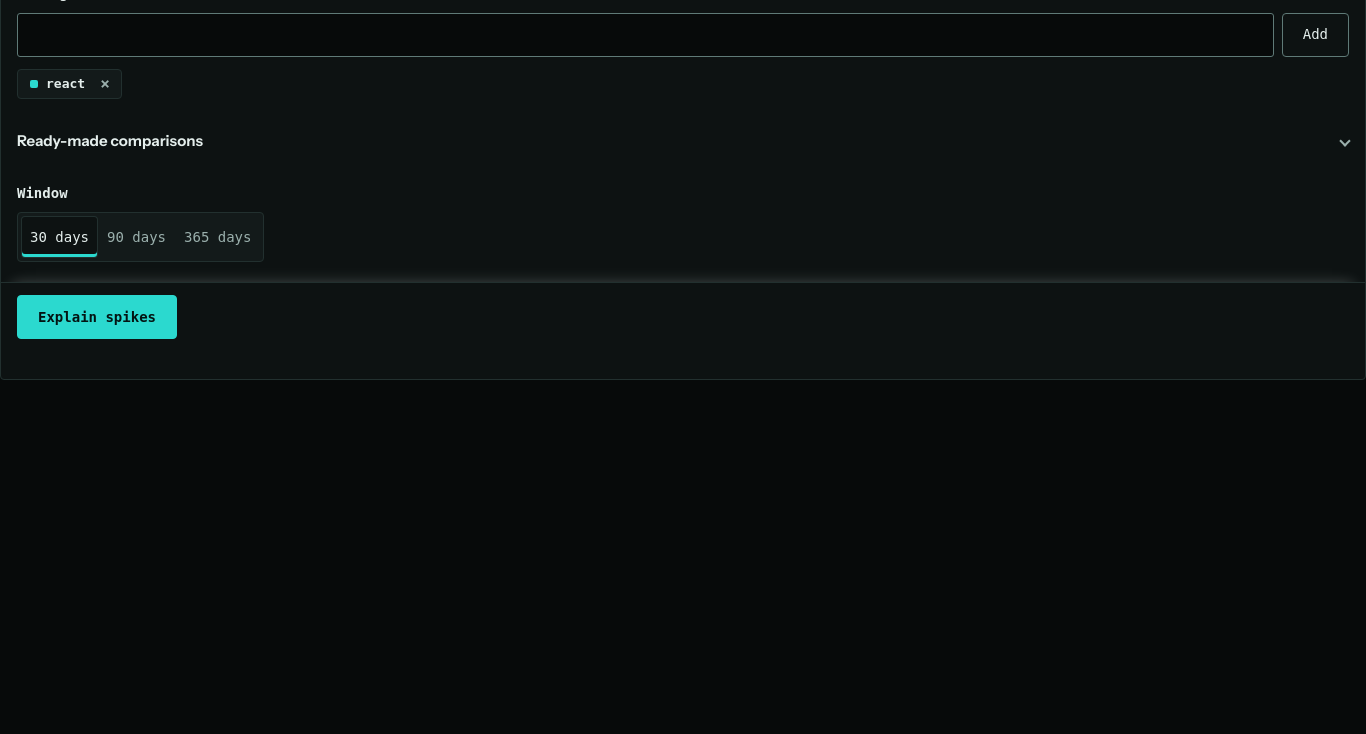
Test: Controls › Explain spikes is disabled while gated or busy, and runs when enabled
This screenshot has width=1366, height=734.
Click the button "Explain spikes" at (97, 317), box [17,295,177,339]
(page scrolled)
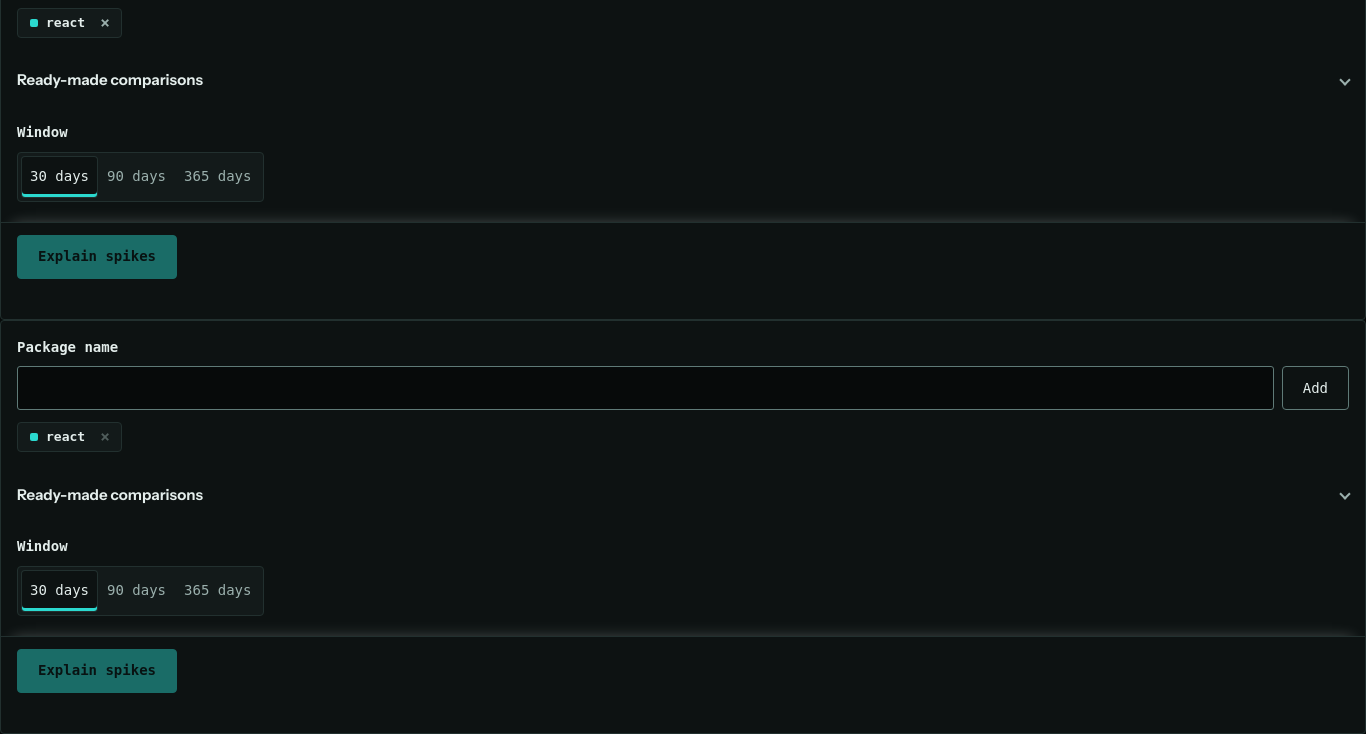
Now the 2nd button "Explain spikes" is disabled, box [17,649,177,693]
